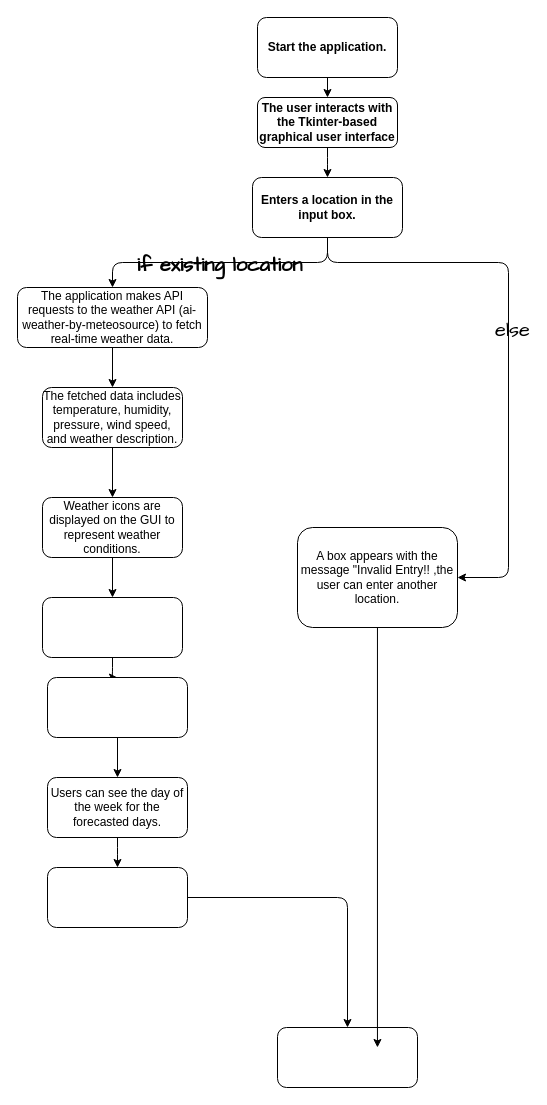
This 547x1105 diagram has some shape labels left out. The shapes that lost their labels are listed below. From the top down, each one's centre as x and y in pixels, then its label:
At point (112, 627): "It also displays a 7-day weather forecast with icons.".
At point (117, 707): "Users can see the minimum and maximum temperature for each day in the forecast.".
At point (117, 897): "Users can continue to search for weather information for different locations.".
At point (347, 1057): "The application continues running until the user exits.".
